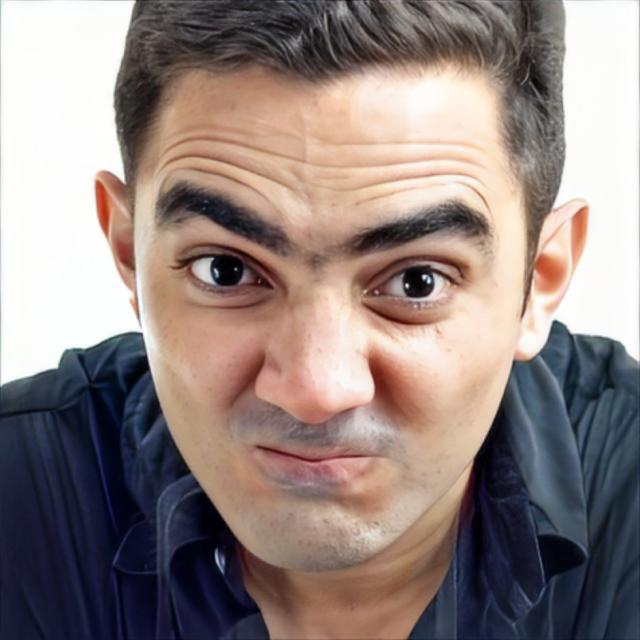disgust: (131, 42, 528, 572)
